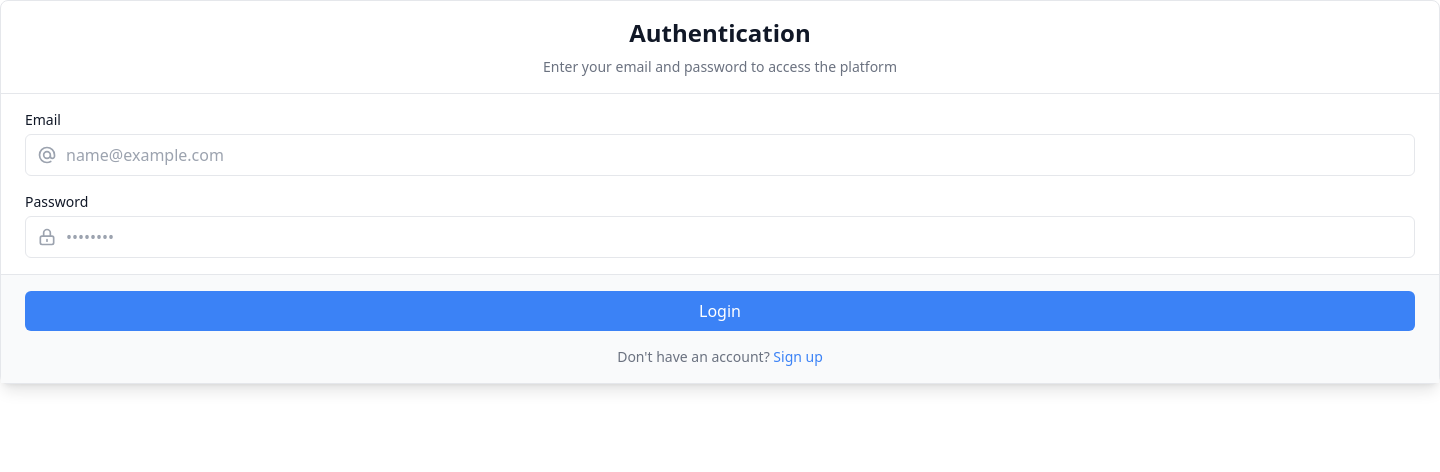
it: LoginPage › Form Submission - Error Cases › should display default error message when API error has no message
Type "test@example.com" into the field labelled "Email" at {"x": 720, "y": 155}, box [25, 134, 1415, 176]
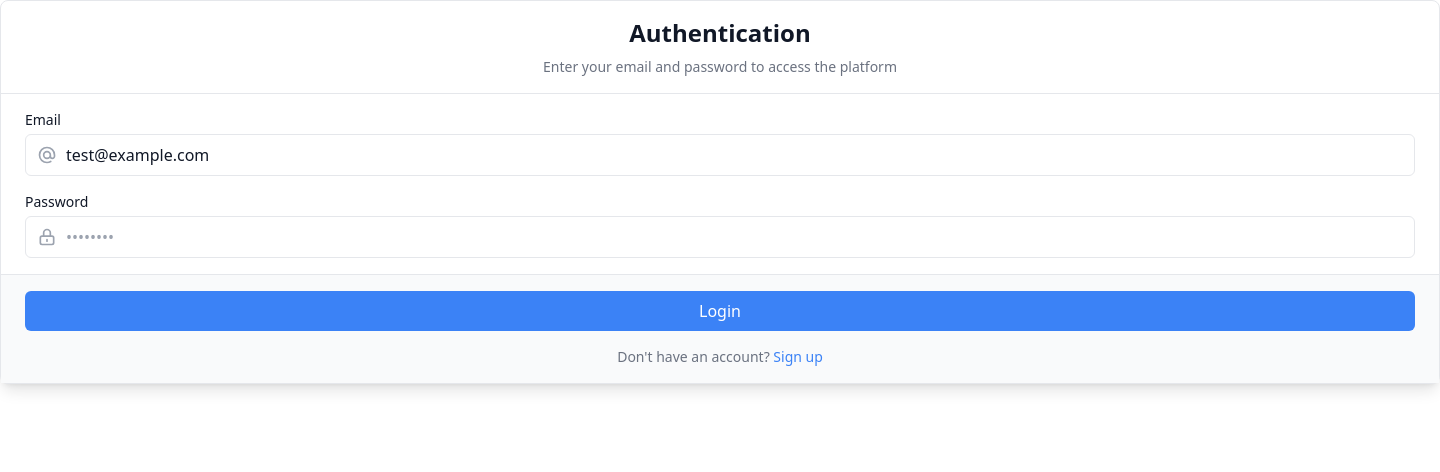
Type "password123" into the password field labelled "Password" at {"x": 720, "y": 237}, box [25, 216, 1415, 258]
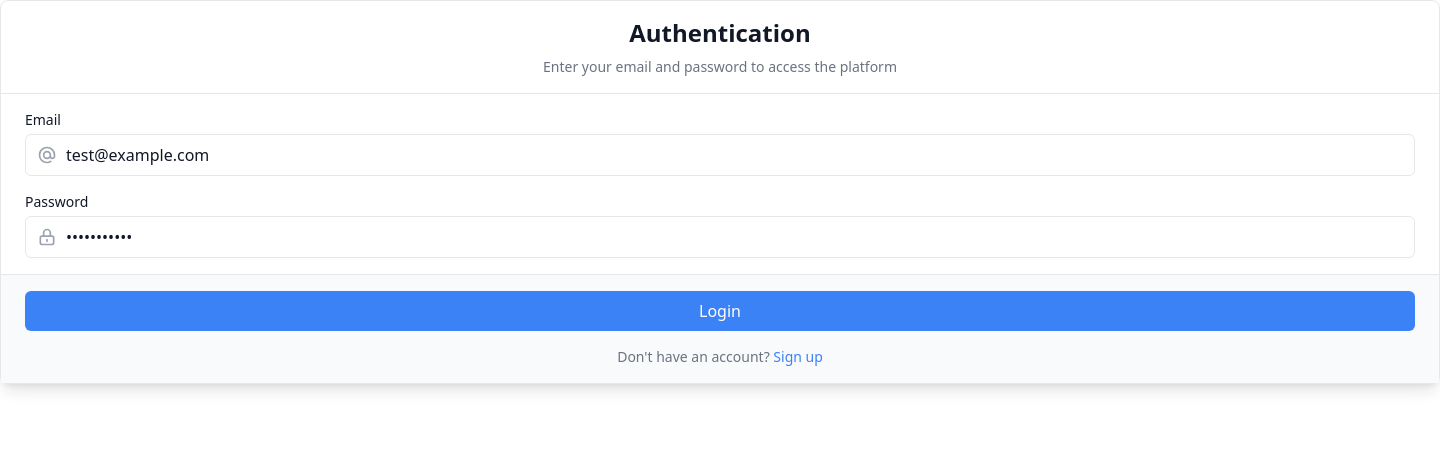
Submit the form labelled "Email Password Login Don't have an account? Sign up"
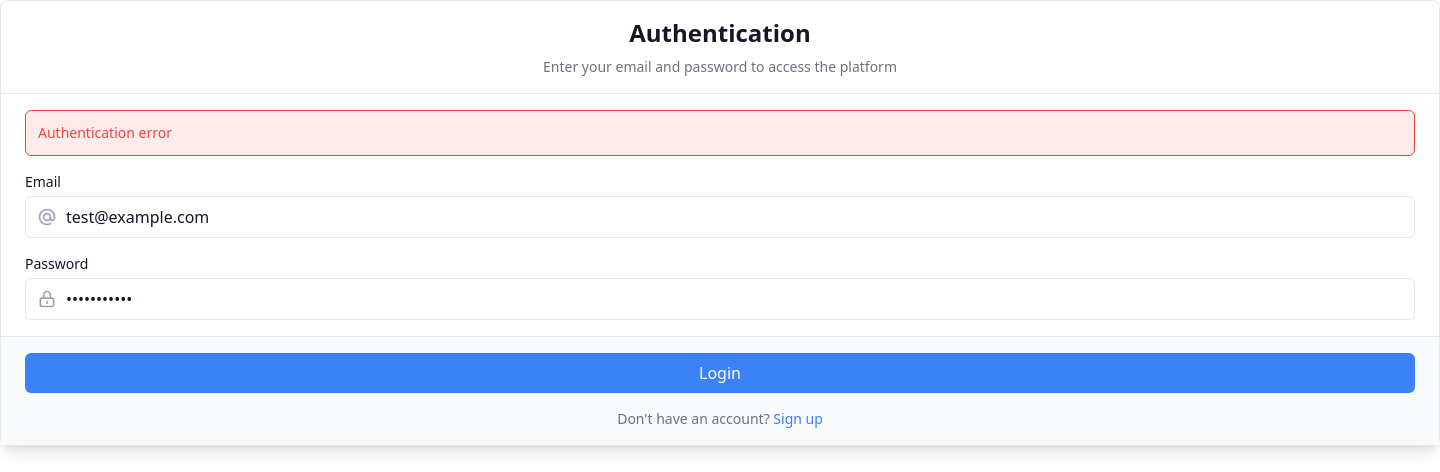
Result: the text "Authentication error" is shown at [25, 110, 1415, 156]
